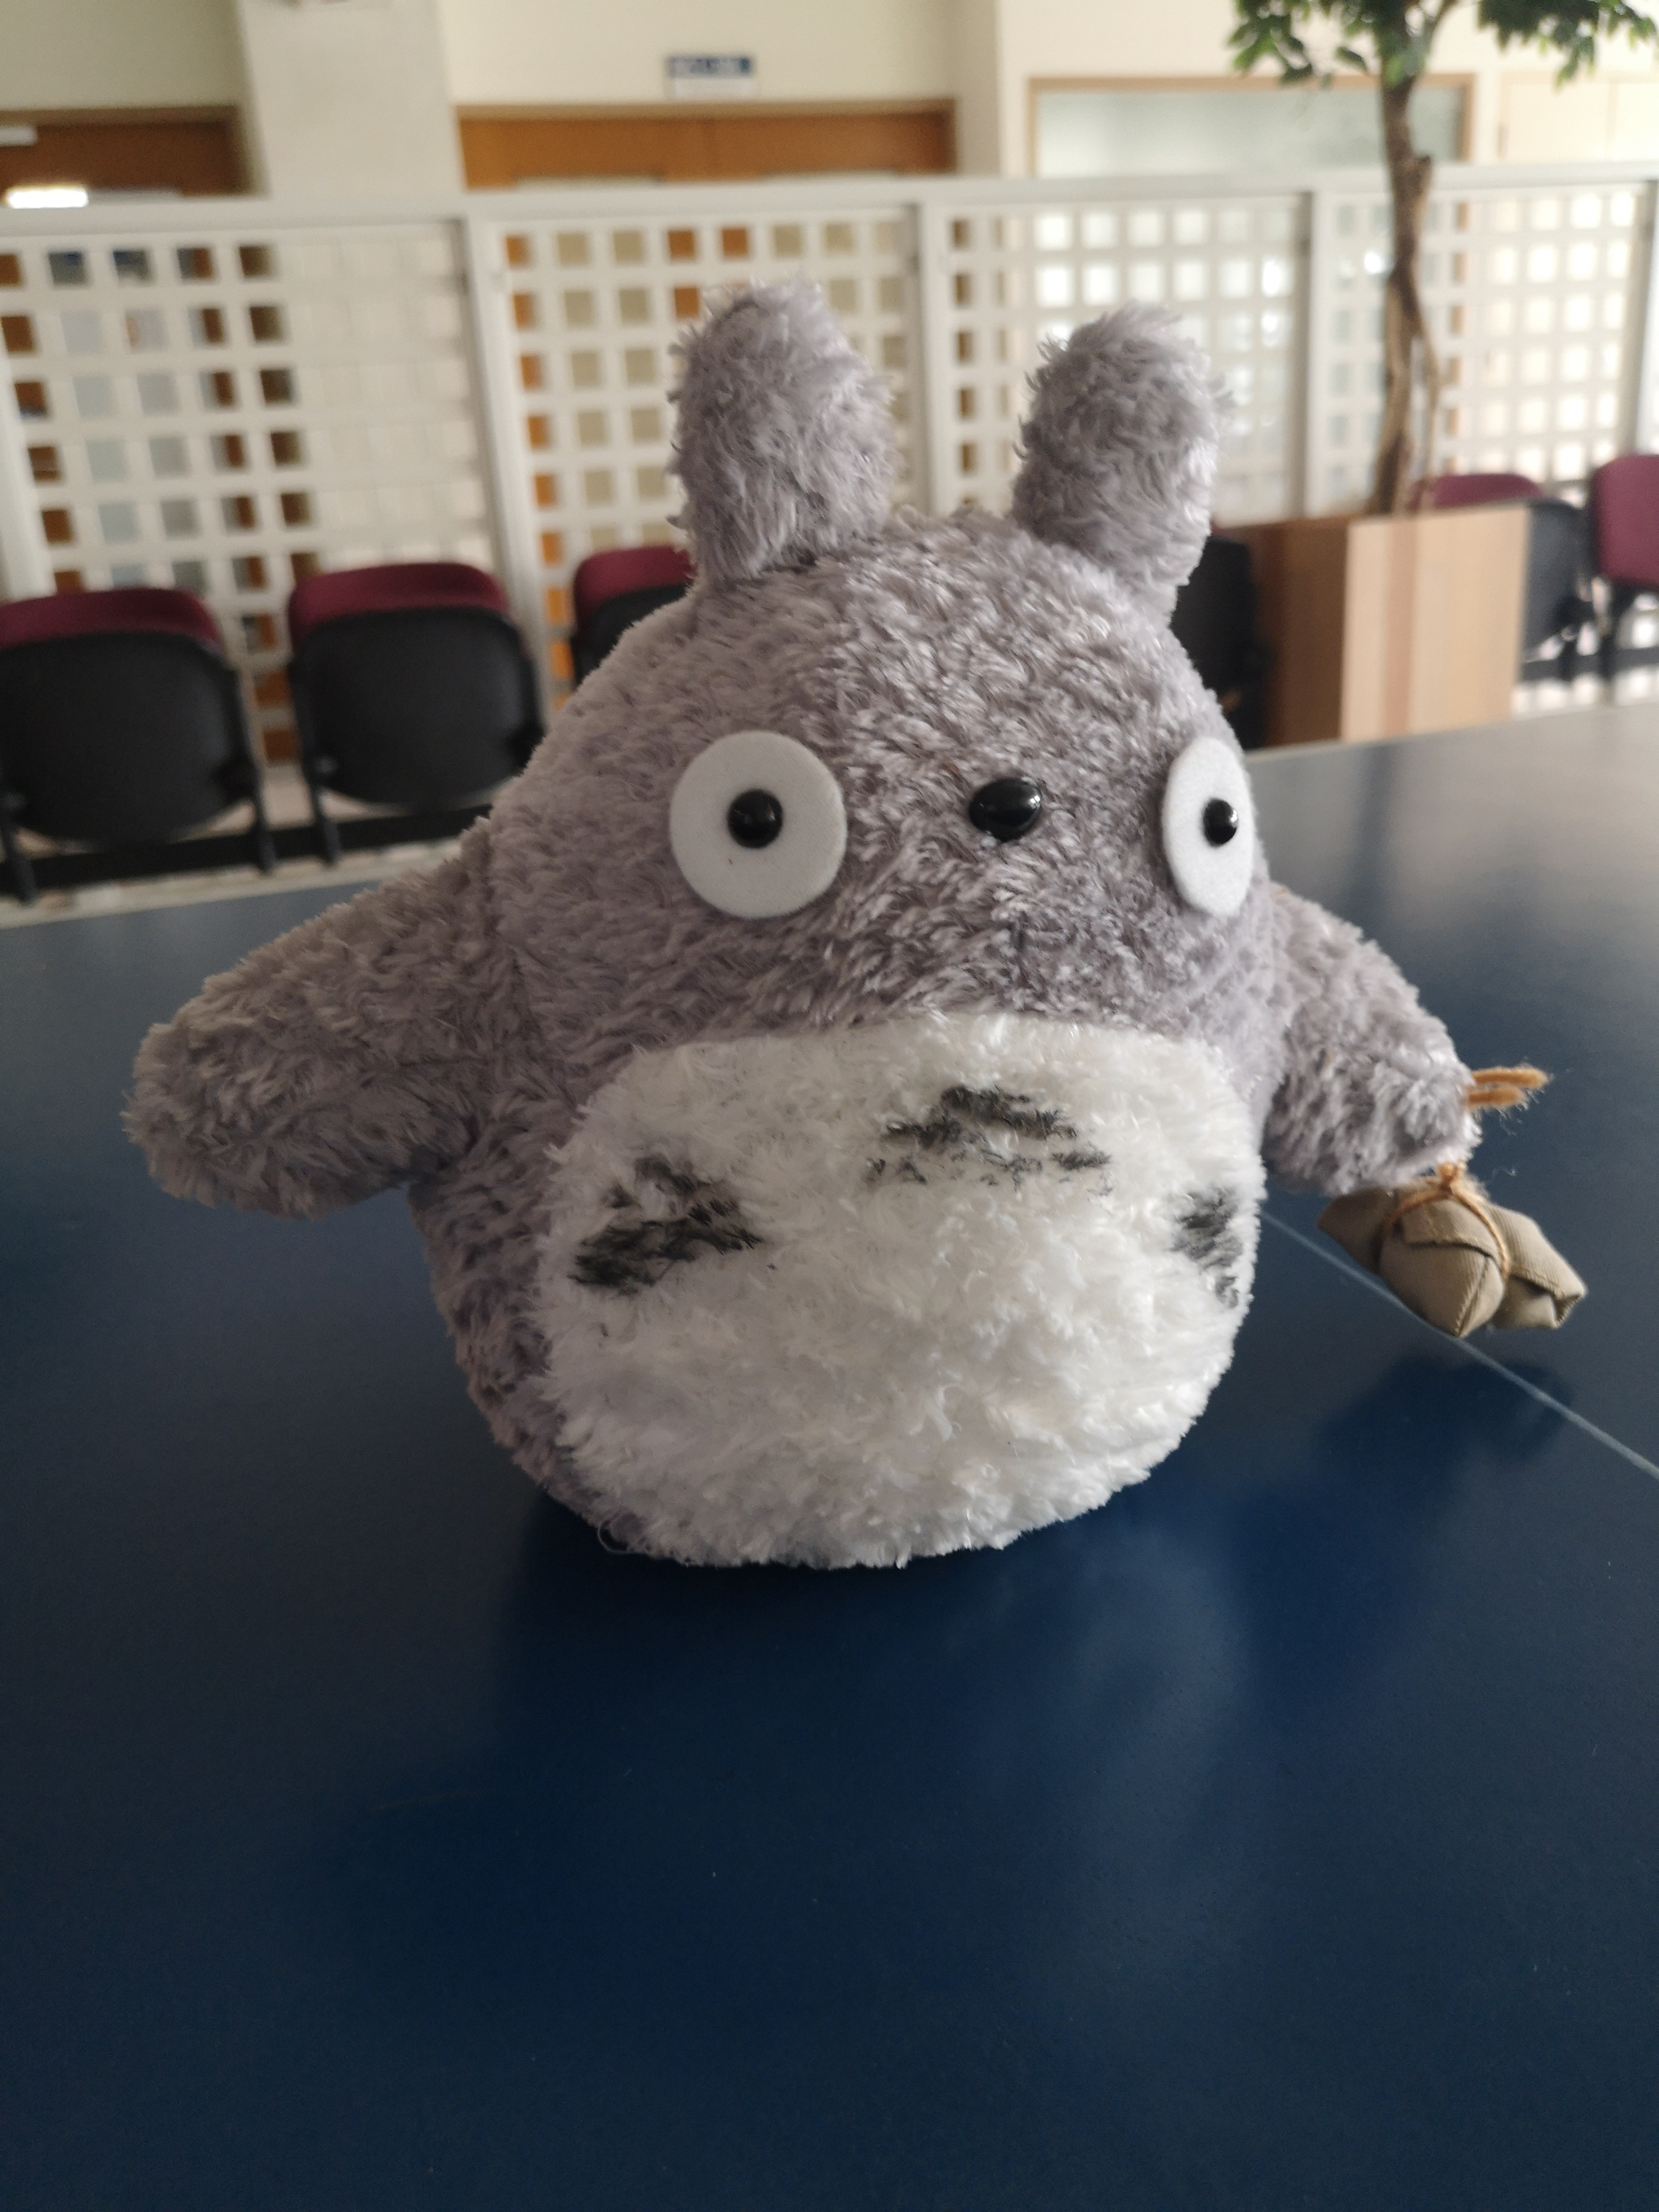totoro: (117, 279, 1608, 1613)
